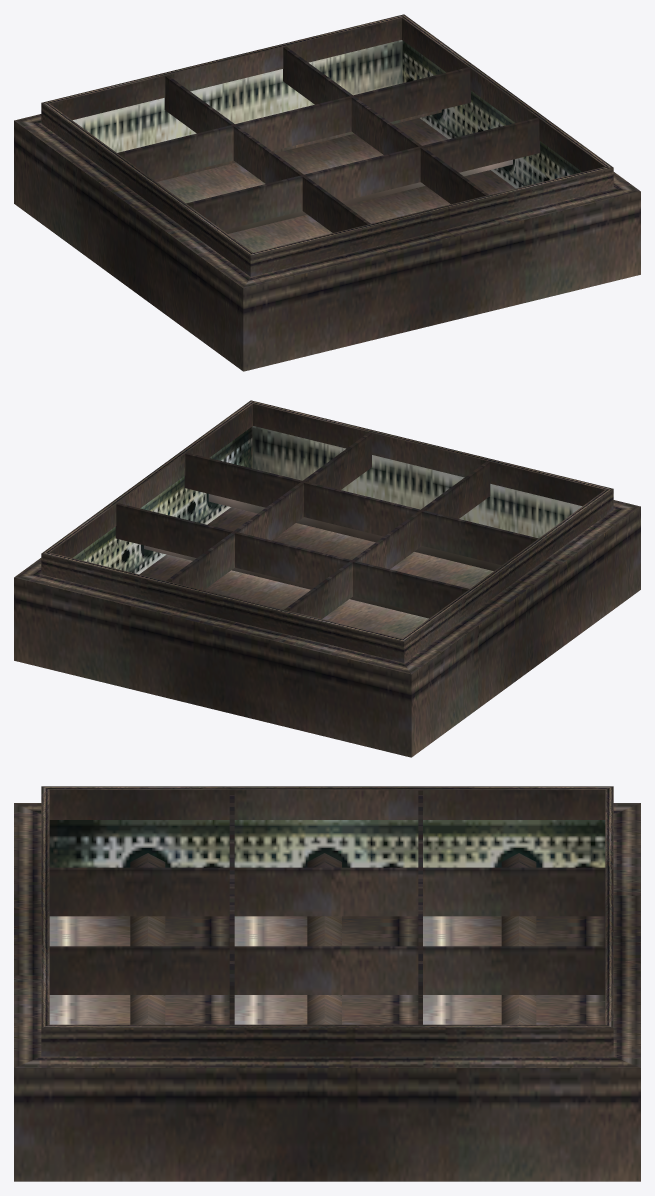
Rendered from 3bulb_square_flo.fbx.
3 views of the same model, one above another, from view 1: azimuth 30°, elevation 25°; view 2: azimuth 150°, elevation 25°; view 3: azimuth 270°, elevation 25° (orthographic). The views are drawn at different scales.
Visible parts, largest first — view 1: mesh_0; view 2: mesh_0; view 3: mesh_0.
Part boxes in pixels (left/top/right/bottom): mesh_0: left=14, top=14, right=640, bottom=371; mesh_0: left=14, top=400, right=640, bottom=757; mesh_0: left=14, top=786, right=640, bottom=1181.
Bounding box in the file's own units: 100 × 25 × 100.
1 material, 1 textured.
